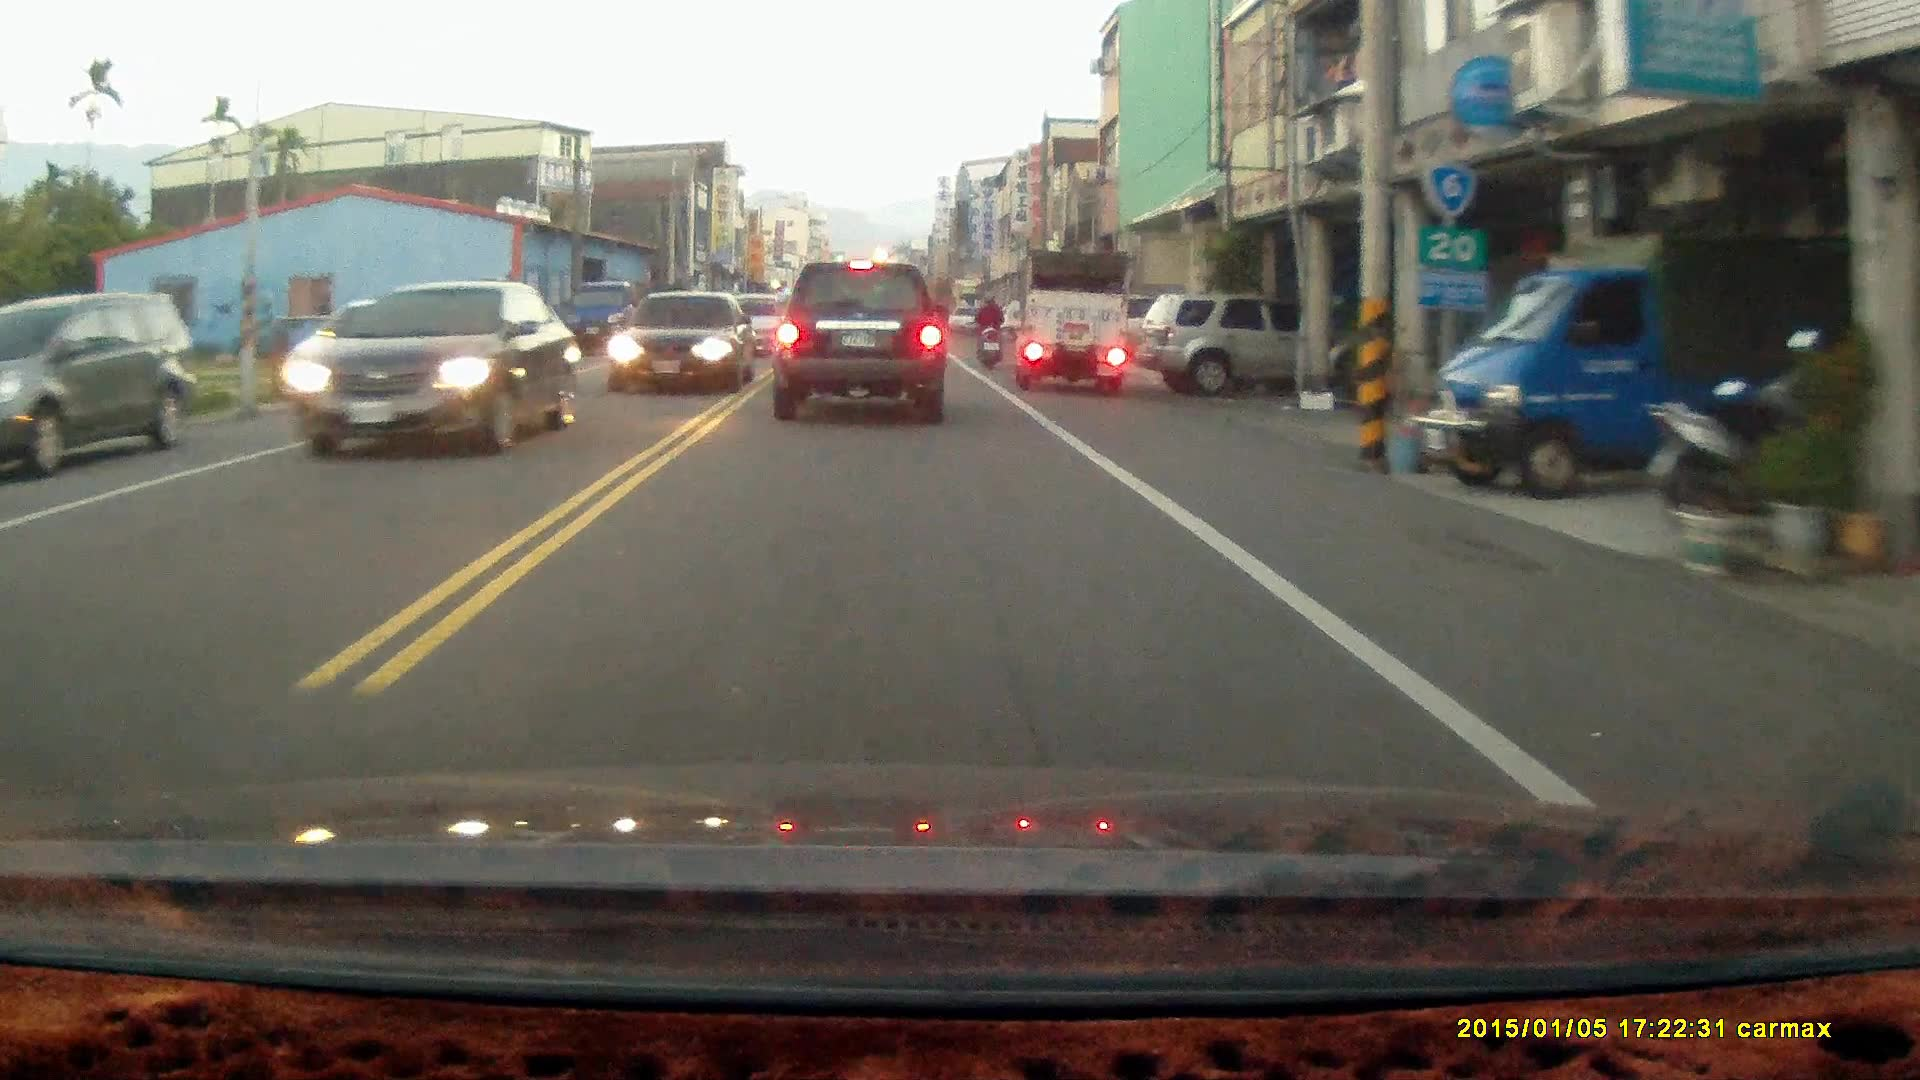rider: (969, 289, 1005, 373)
vehicle: (1429, 193, 1814, 503), (288, 278, 580, 465), (4, 291, 201, 479), (769, 262, 948, 429), (1138, 290, 1307, 397), (607, 290, 757, 394), (1022, 249, 1132, 392), (570, 284, 670, 366)
